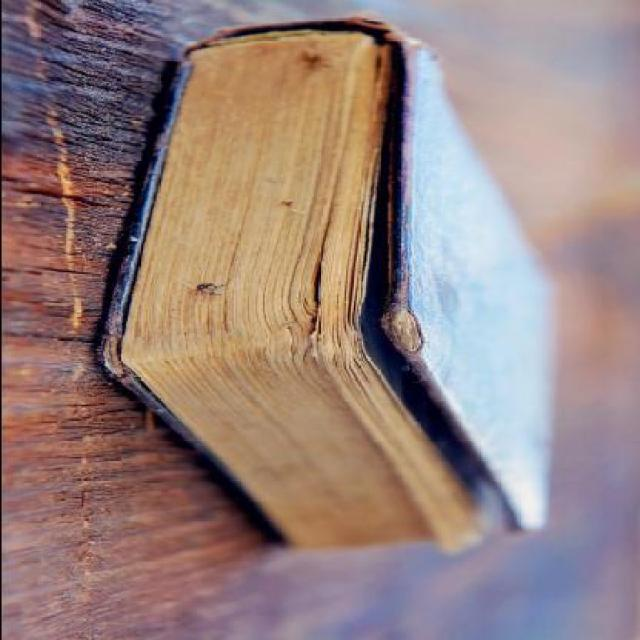book: (101, 28, 593, 557)
